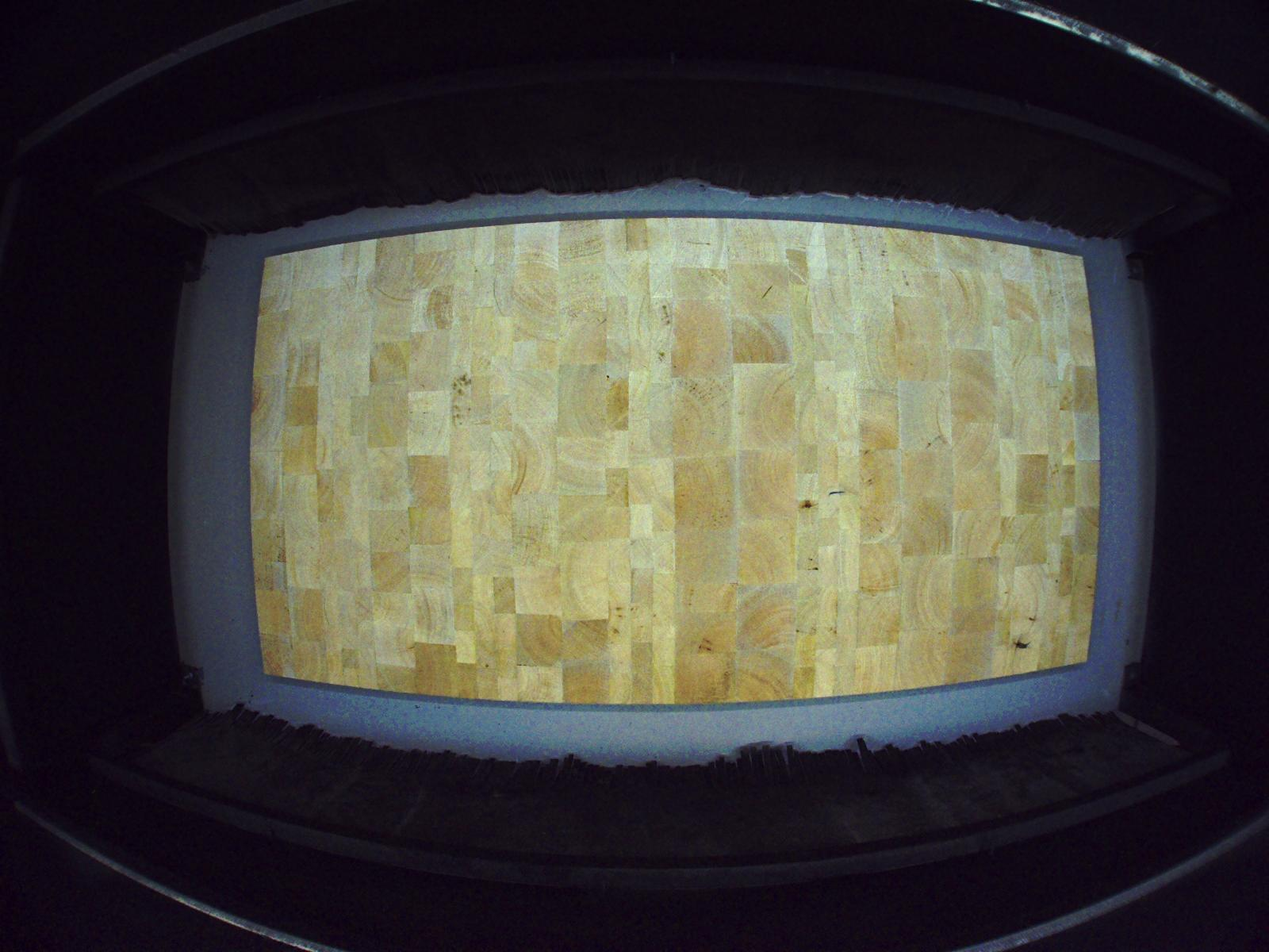sheck_ecuatoriano: (1011, 634, 1031, 654), (798, 499, 819, 509)
